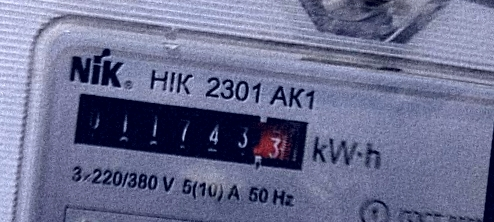0: (86, 103, 103, 133)
1: (147, 110, 162, 139), (118, 107, 131, 135)
3: (235, 123, 252, 151), (265, 135, 282, 162)
4: (205, 120, 222, 148)
7: (175, 113, 193, 143)
screen: (61, 82, 321, 184)
